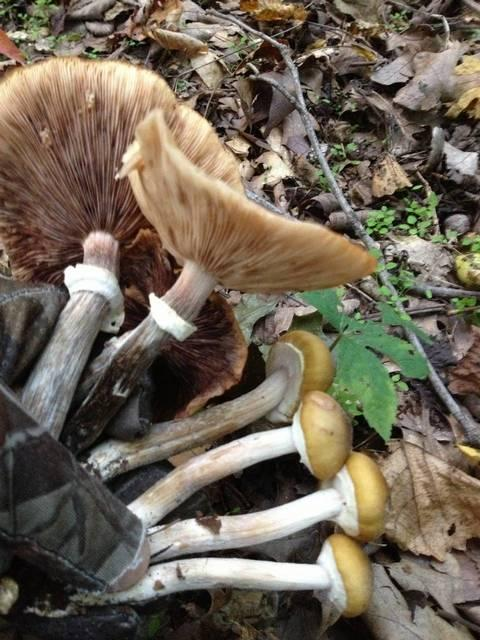Edible Mushroom: (62, 106, 377, 453), (179, 446, 396, 619)
